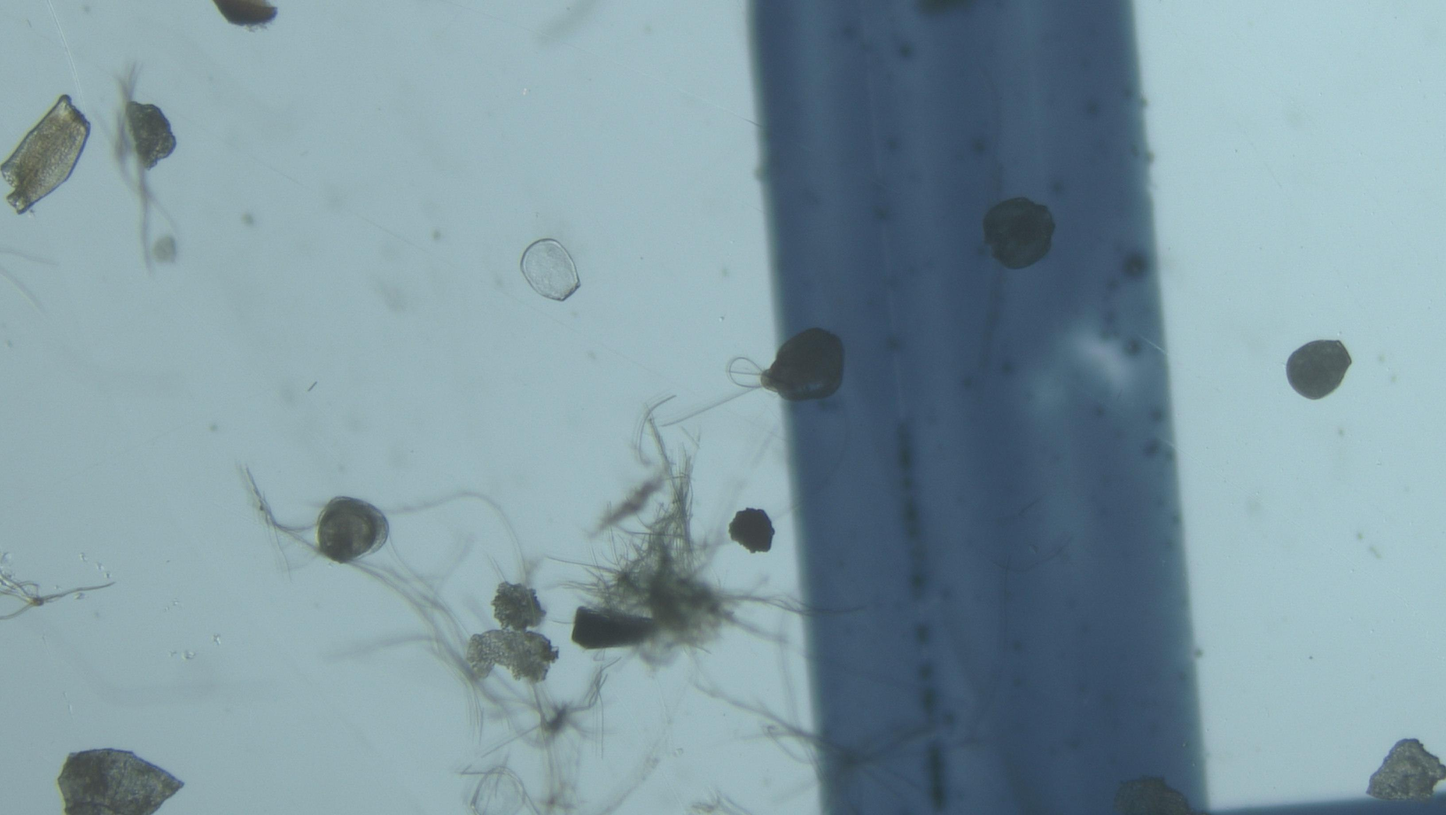dead: (520, 239, 580, 301)
live: (760, 328, 844, 401), (983, 198, 1055, 269), (316, 497, 389, 563), (1287, 340, 1352, 400)
